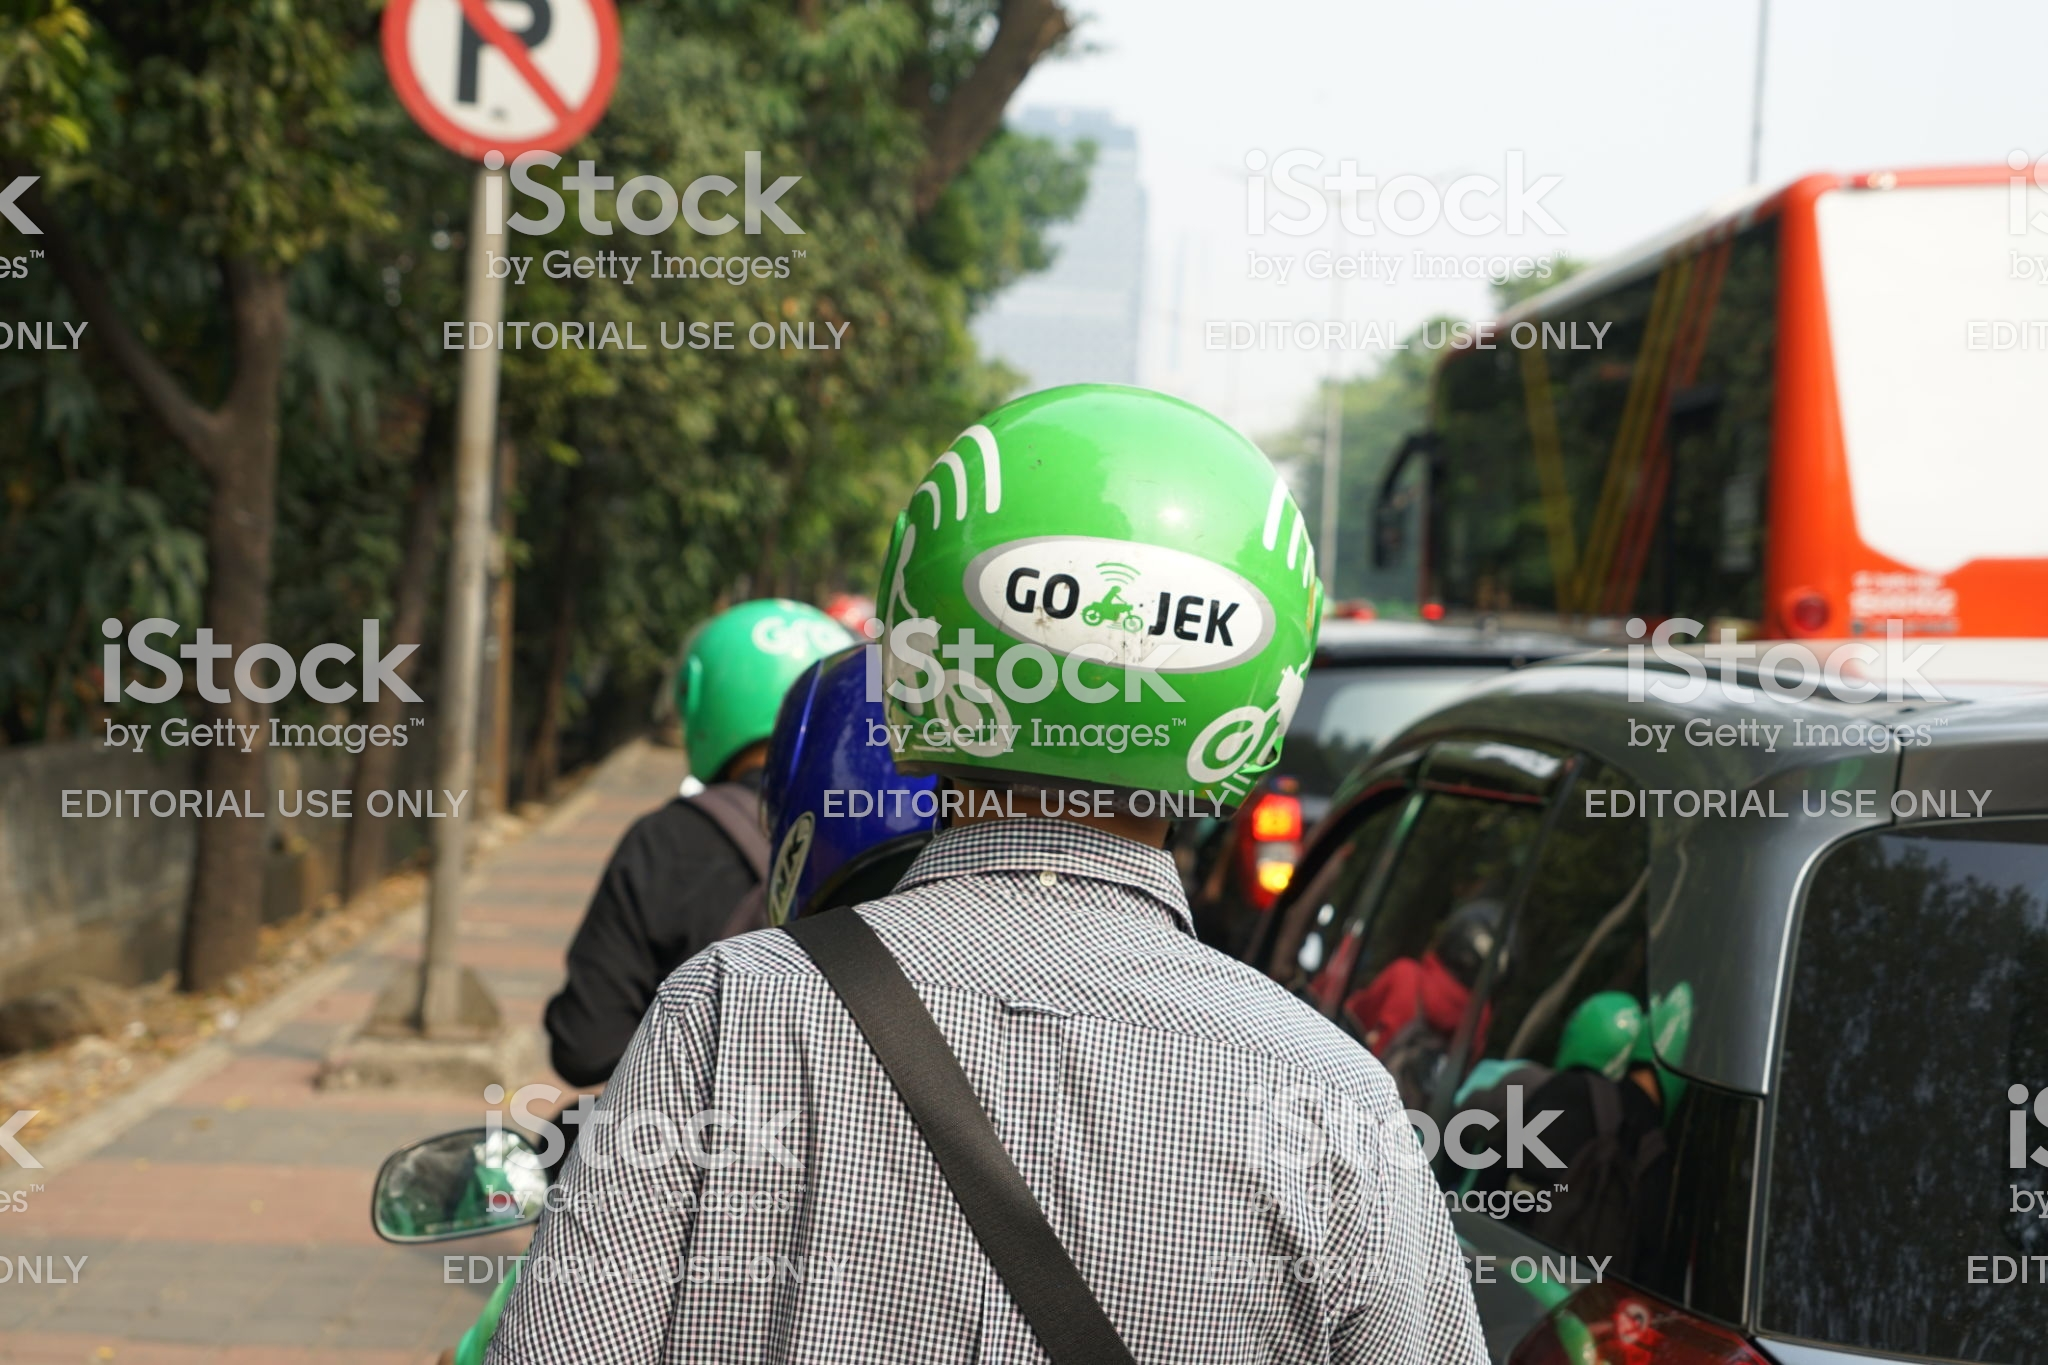helmet: (847, 363, 1325, 815)
